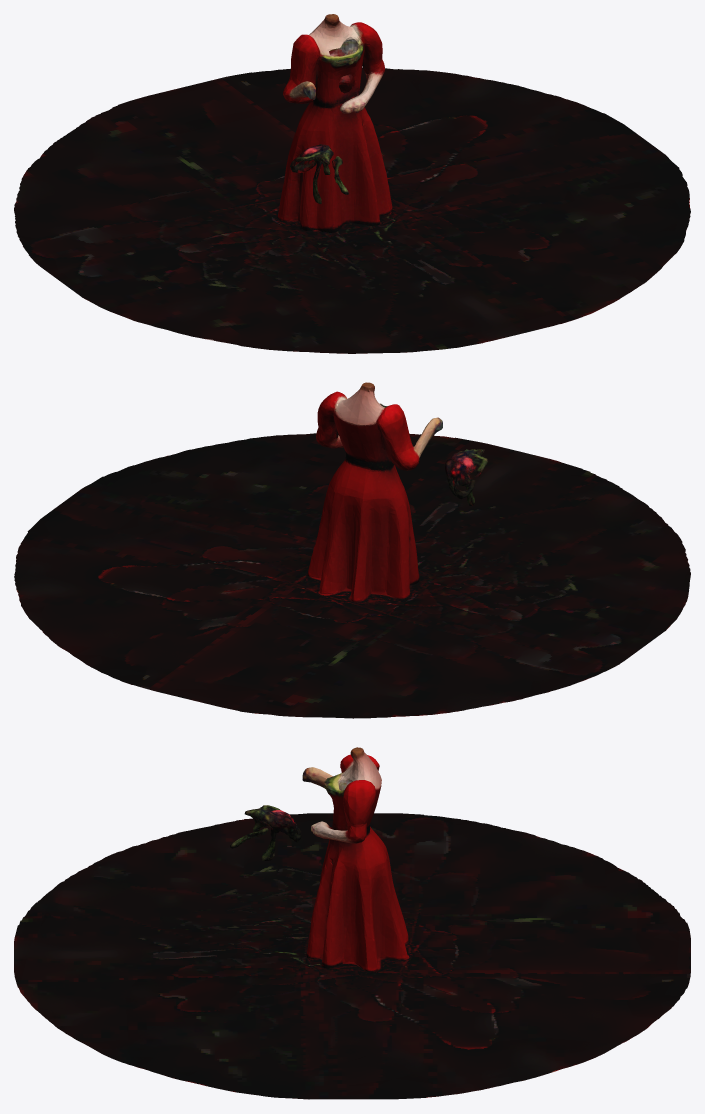
File: trellis_result.glb
3 views of the same model, one above another, from view 1: azimuth 30°, elevation 25°; view 2: azimuth 150°, elevation 25°; view 3: azimuth 270°, elevation 25° (orthographic).
Parts seen in each view (by area): view 1: world; view 2: world; view 3: world.
Boxes of the visible parts, box(x1,y1,x2,y2) form: world: box(14, 14, 690, 353); world: box(14, 382, 690, 718); world: box(14, 747, 690, 1099).
Size of the model in its own units: 1 by 0.3251 by 1.
1 material, 1 textured.
